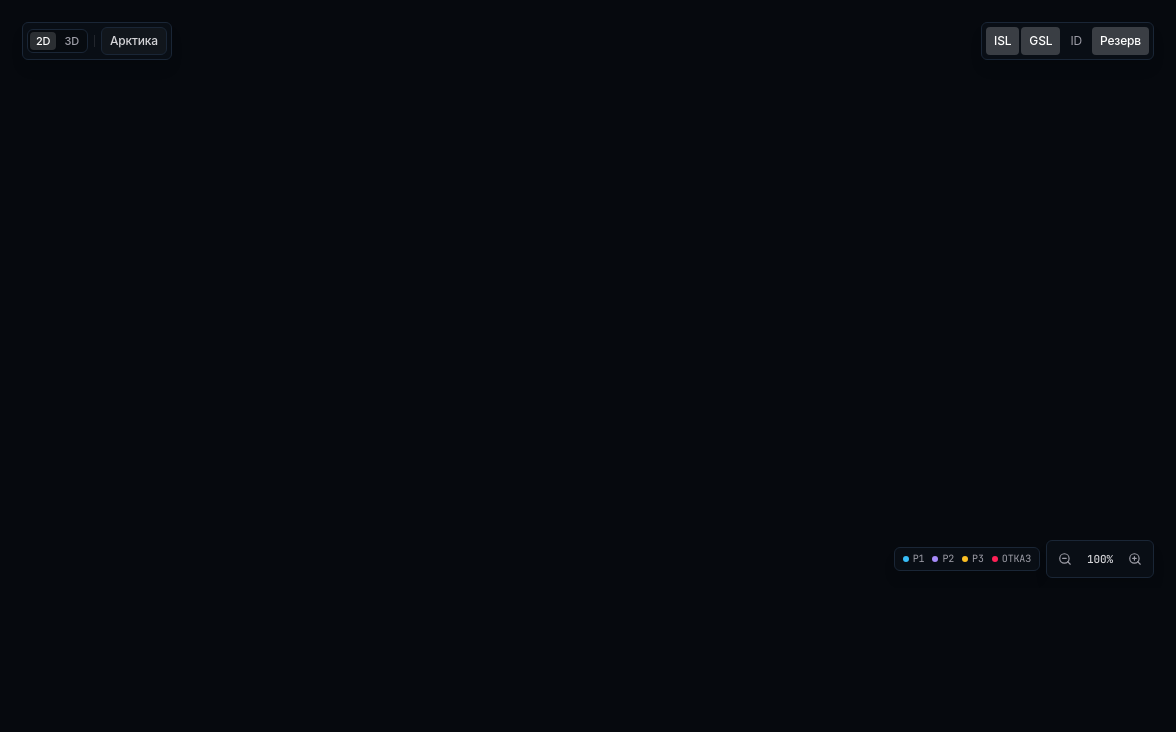
it: NetworkMap Component › activates Arctic focus mode in 3D
Click the button "Арктика" at x=134, y=41, box [101,27,167,55]
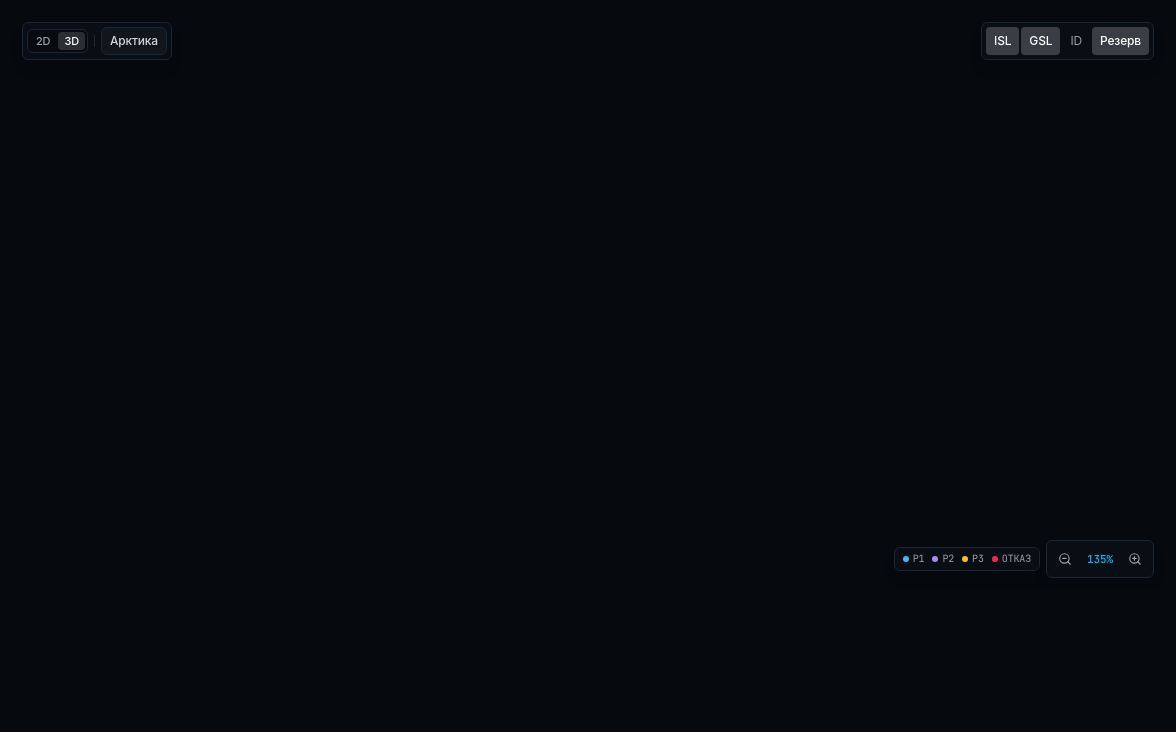
Now the button "135%" is shown, box [1081,550,1119,568]
